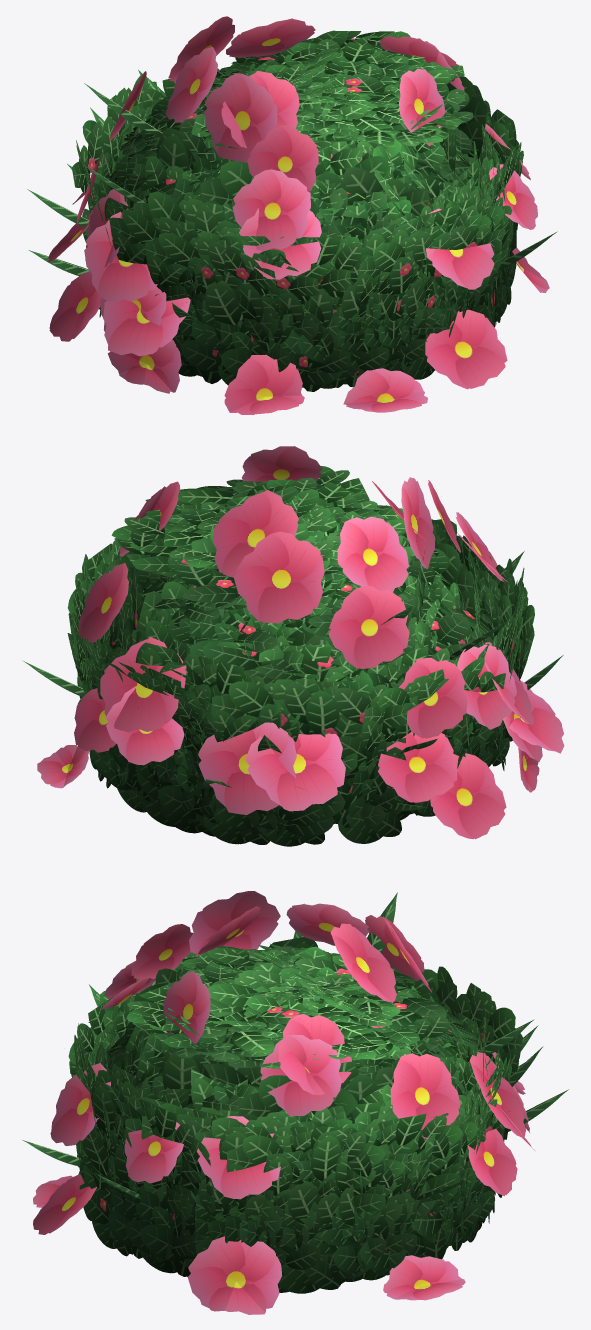
Rendered from mm7_deco_flower12.glb.
The picture shows the model from 3 angles, top to bottom: view 1: azimuth 30°, elevation 25°; view 2: azimuth 150°, elevation 25°; view 3: azimuth 270°, elevation 25°; orthographic projection. The views are drawn at different scales.
Visible parts, largest first — view 1: Plant; view 2: Plant; view 3: Plant.
Boxes of the visible parts, x1,y1,x2,y2 form: Plant: (27,16,557,414); Plant: (22,446,564,846); Plant: (22,891,568,1314).
Size of the model in its own units: 1.48 by 0.8813 by 1.59.
1 material, 1 textured.
